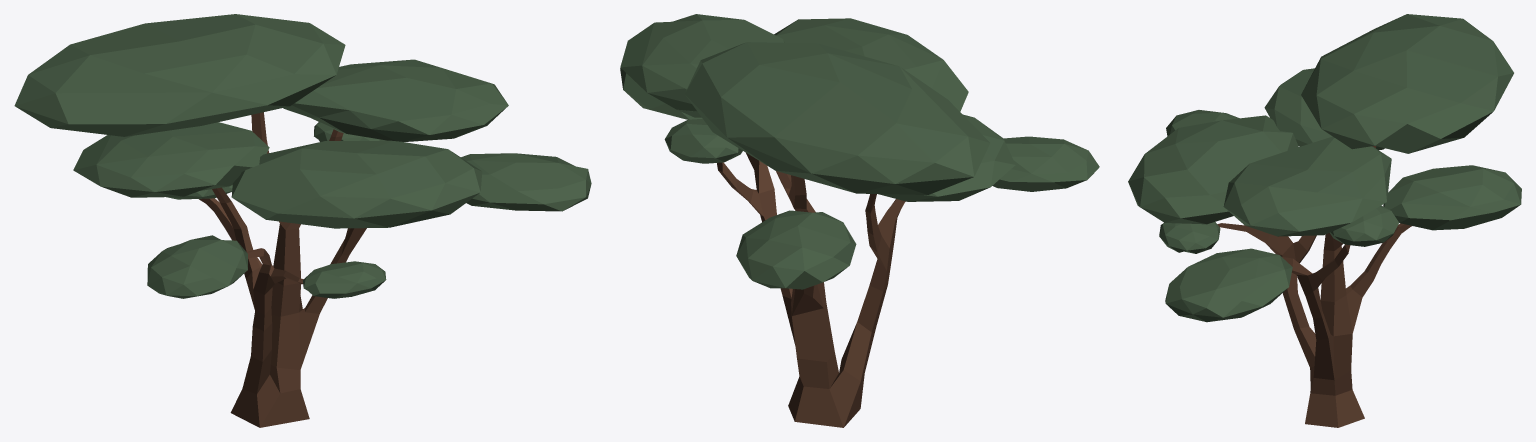
Rendered from tree.fbx.
The picture shows the model from 3 angles, left to right: view 1: azimuth 30°, elevation 25°; view 2: azimuth 150°, elevation 25°; view 3: azimuth 270°, elevation 25°; orthographic projection. The views are drawn at different scales.
Parts seen in each view (by area): view 1: tree3dark, tree3light; view 2: tree3dark, tree3light; view 3: tree3dark, tree3light.
Part boxes in pixels (<box>): tree3dark: <box>14,14,591,427</box>; tree3light: <box>212,187,260,309</box>; tree3dark: <box>620,14,1099,427</box>; tree3light: <box>866,194,889,270</box>; tree3dark: <box>1128,14,1521,427</box>; tree3light: <box>1293,235,1316,263</box>.
Bounding box in the file's own units: 2195 × 1650 × 1742.
